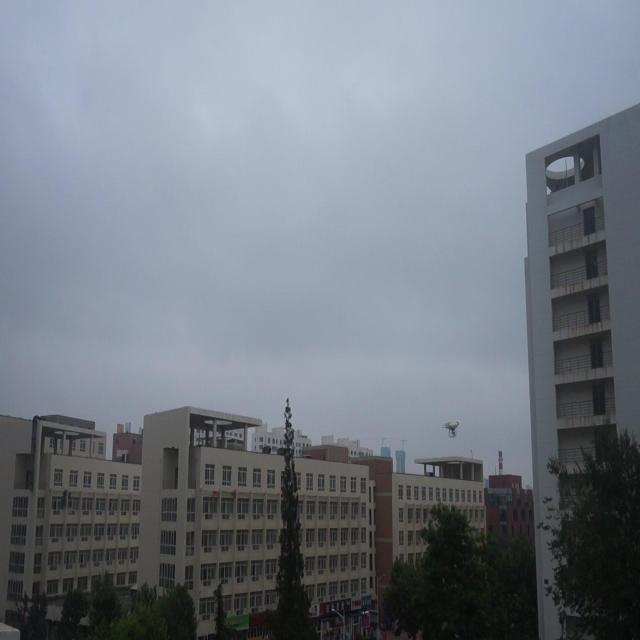drone: (442, 419, 462, 444)
